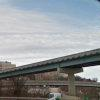Bridge: (8, 45, 96, 77)
